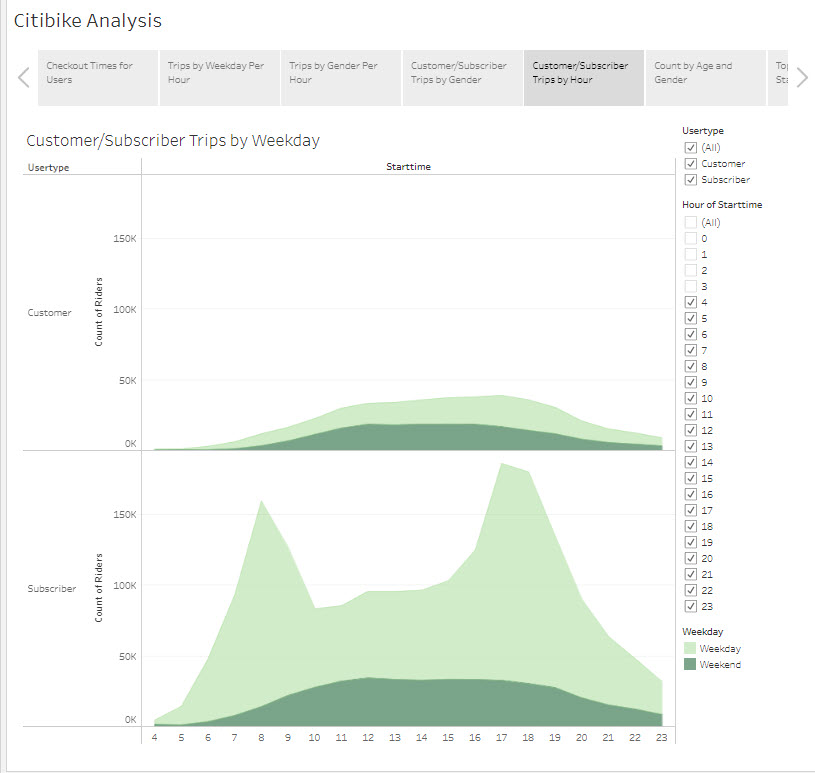

Layout of this report page (visuals, bound fields, positions):
{"tool":"tableau","page":{"name":"Customer and Subscriber Trips by Weekday","canvas":[1000,800],"ordinal":1},"visuals":[{"type":"worksheet","title":"Customer/Subscriber Trips by Weekday","mark":"Area","rows":["usertype","new_citidata.csv_2092E5977E0D40EE955A89803B8F2B2F"],"cols":["starttime"],"box":[8,8,824,784]},{"type":"filter","title":"Customer/Subscriber Trips by Weekday","param":"[federated.0oyse0e0kn00c418yci4800ggdbp].[none:usertype:nk]","box":[832,8,160,89]},{"type":"filter","title":"Customer/Subscriber Trips by Weekday","param":"[federated.0oyse0e0kn00c418yci4800ggdbp].[hr:starttime:ok]","box":[832,97,160,507]},{"type":"legend","title":"Customer/Subscriber Trips by Weekday","param":"[federated.0oyse0e0kn00c418yci4800ggdbp].[none:Calculation_187180912427802624:nk","box":[832,604,160,66]}]}

Visuals, with their boxes on the page's 1000x800 design canvas (x1, y1, x2, y2). These are canvas units, not pixel positions in the 815x773 screenshot, which may show the page scaled, cropped or inside an application window:
"Customer/Subscriber Trips by Weekday" worksheet (Area marks): box(8, 8, 832, 792)
"Customer/Subscriber Trips by Weekday" filter: box(832, 8, 992, 97)
"Customer/Subscriber Trips by Weekday" filter: box(832, 97, 992, 604)
"Customer/Subscriber Trips by Weekday" legend: box(832, 604, 992, 670)
